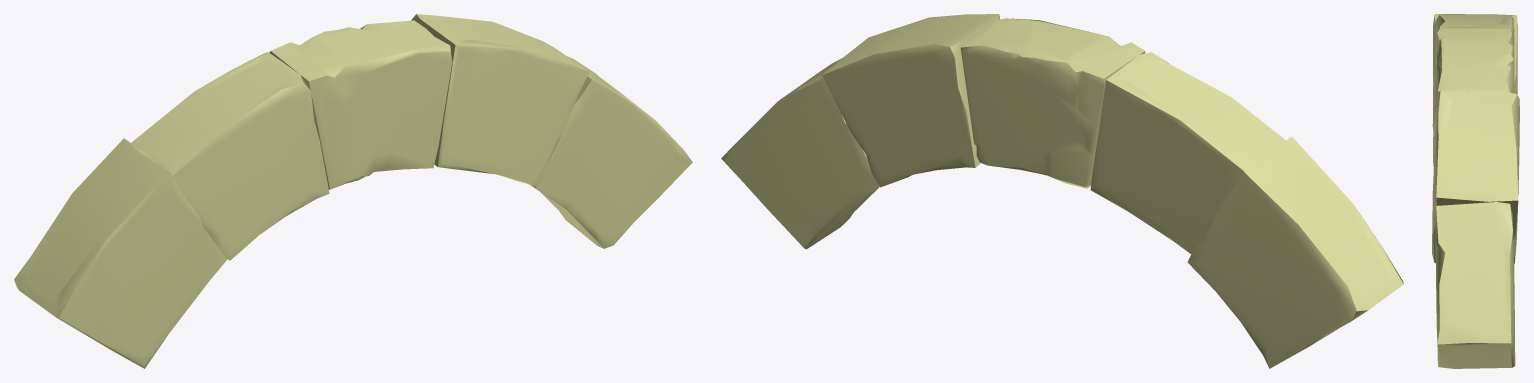
Rendered from stone_element_20_lintel_01.fbx.
3 views of the same model, side by side, from view 1: azimuth 30°, elevation 25°; view 2: azimuth 150°, elevation 25°; view 3: azimuth 270°, elevation 25° (orthographic). The views are drawn at different scales.
Parts seen in each view (by area): view 1: stone_element_20_lintel_01_LOD0; view 2: stone_element_20_lintel_01_LOD0; view 3: stone_element_20_lintel_01_LOD0.
Boxes of the visible parts, <box> form: stone_element_20_lintel_01_LOD0: <box>14,14,692,368</box>; stone_element_20_lintel_01_LOD0: <box>721,14,1403,368</box>; stone_element_20_lintel_01_LOD0: <box>1432,14,1519,368</box>.
Size of what is drawn, in the model's own units: 241 by 90.69 by 32.61.
